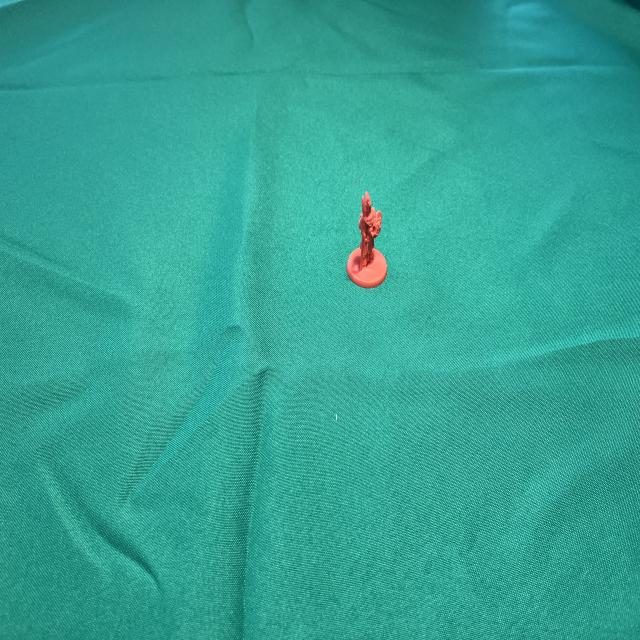amon_follower: (346, 192, 388, 288)
